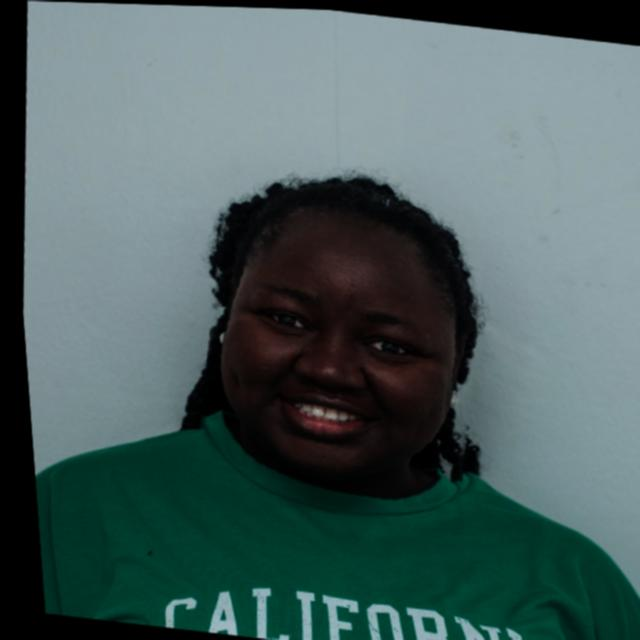happy: (175, 148, 500, 513)
